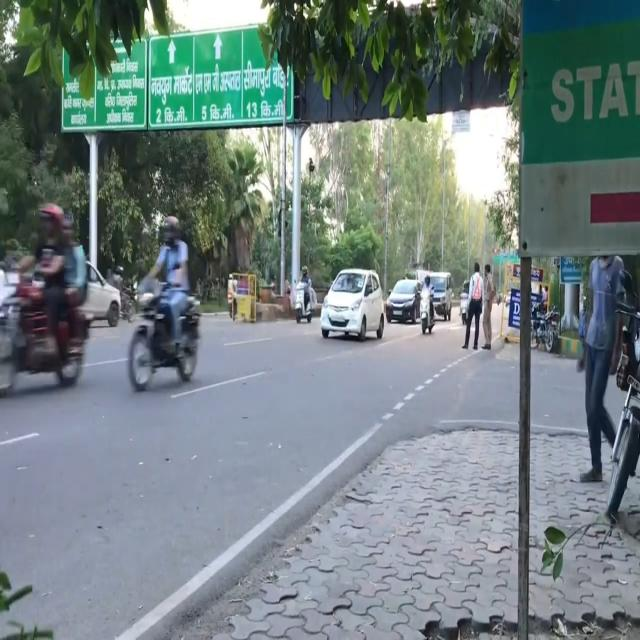Scooty: (418, 282, 436, 334)
